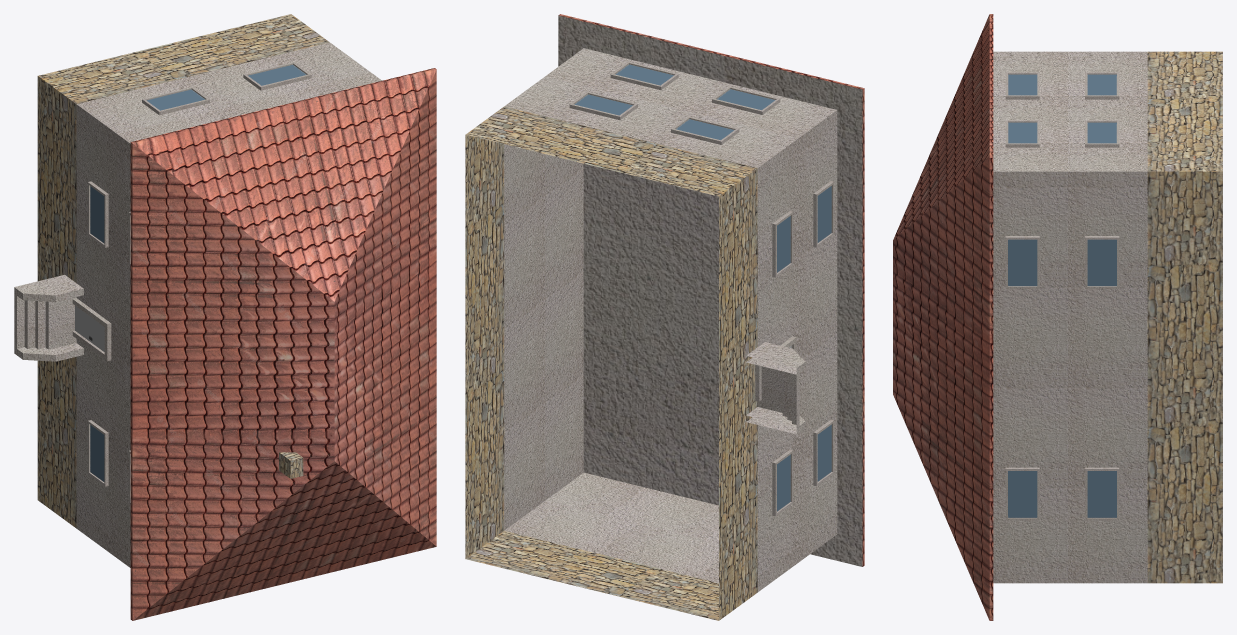
Rendered from house.fbx.
The picture shows the model from 3 angles, left to right: view 1: azimuth 30°, elevation 25°; view 2: azimuth 150°, elevation 25°; view 3: azimuth 270°, elevation 25°; orthographic projection. The views are drawn at different scales.
Visible parts, largest first — view 1: House #lod0; view 2: House #lod0; view 3: House #lod0.
Boxes of the visible parts, box(x1,y1,x2,y2) form: House #lod0: box(14, 14, 436, 620); House #lod0: box(465, 14, 864, 620); House #lod0: box(893, 14, 1222, 620).
Size of what is drawn, in the model's own units: 1300 by 1800 by 1162.
